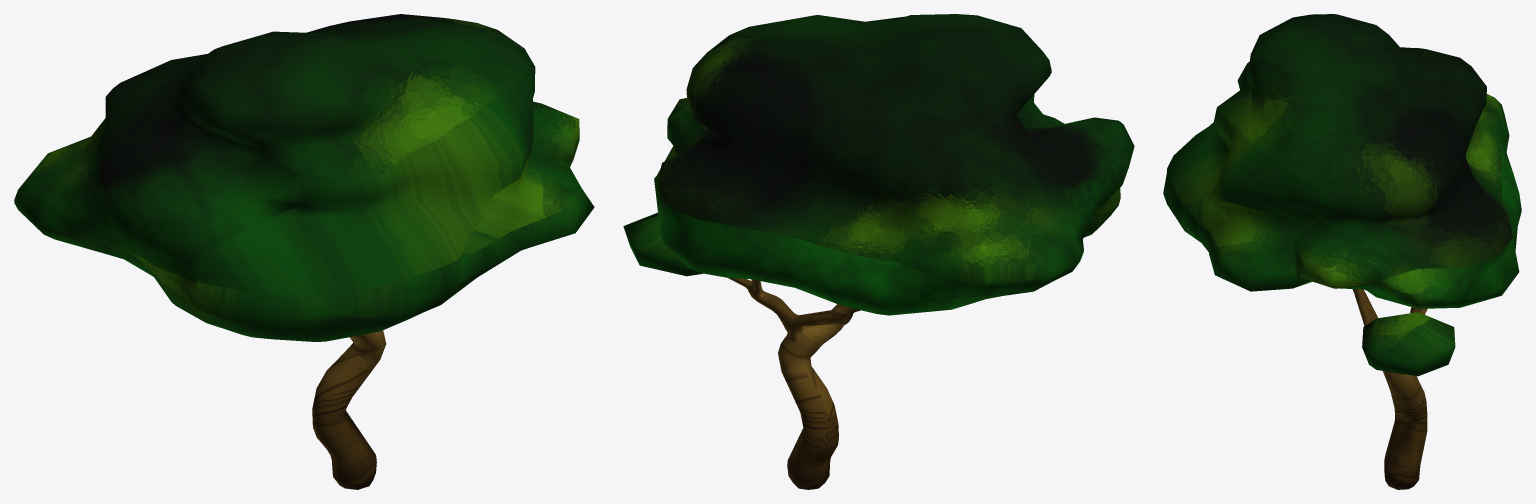
File: Arboles1_2.fbx
The picture shows the model from 3 angles, left to right: view 1: azimuth 30°, elevation 25°; view 2: azimuth 150°, elevation 25°; view 3: azimuth 270°, elevation 25°; orthographic projection. The views are drawn at different scales.
Visible parts, largest first — view 1: Arbol2_LOD0; view 2: Arbol2_LOD0; view 3: Arbol2_LOD0.
Boxes of the visible parts, box(x1,y1,x2,y2) form: Arbol2_LOD0: box(14, 14, 594, 489); Arbol2_LOD0: box(623, 14, 1134, 489); Arbol2_LOD0: box(1163, 14, 1521, 489).
Size of what is drawn, in the model's own units: 1003 by 951 by 753.
